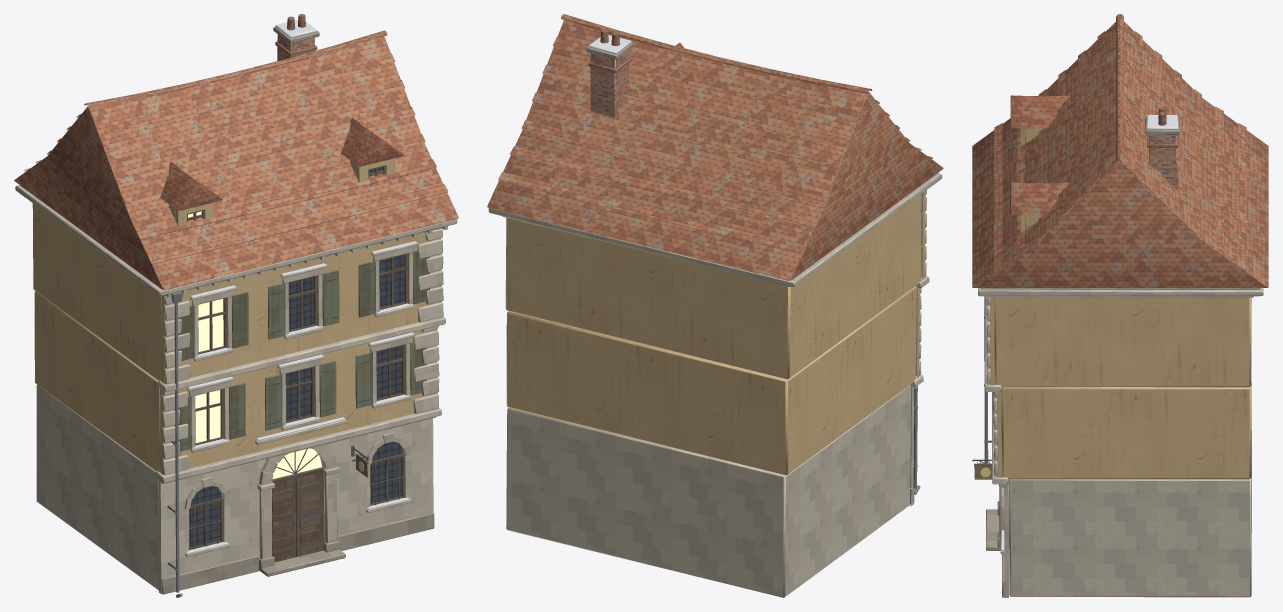
File: tenement_a.glb
3 views of the same model, side by side, from view 1: azimuth 30°, elevation 25°; view 2: azimuth 150°, elevation 25°; view 3: azimuth 270°, elevation 25° (orthographic). The views are drawn at different scales.
Visible parts, largest first — view 1: tenement_a; view 2: tenement_a; view 3: tenement_a.
Boxes of the visible parts, bbox=[...] form: tenement_a: bbox=[14, 14, 458, 597]; tenement_a: bbox=[487, 14, 943, 597]; tenement_a: bbox=[972, 14, 1268, 597].
Size of what is drawn, in the model's own units: 11.03 by 16.39 by 9.59.
Materials: 17 (16 with a texture image).
